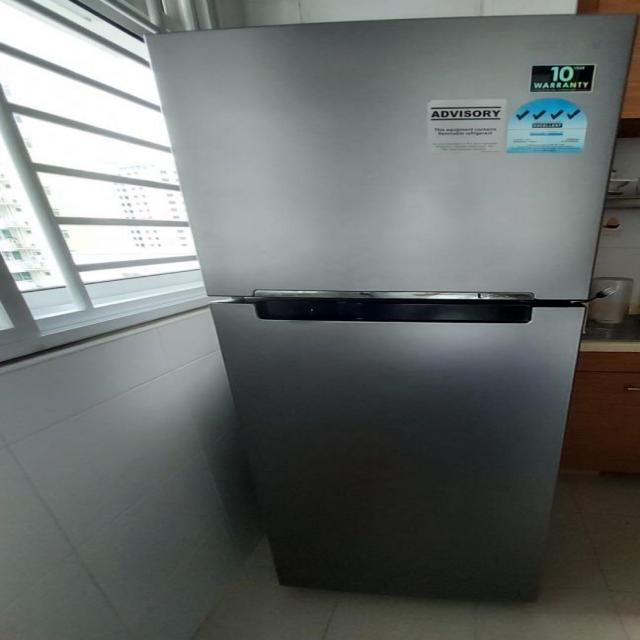refrigerator: (144, 13, 638, 596)
